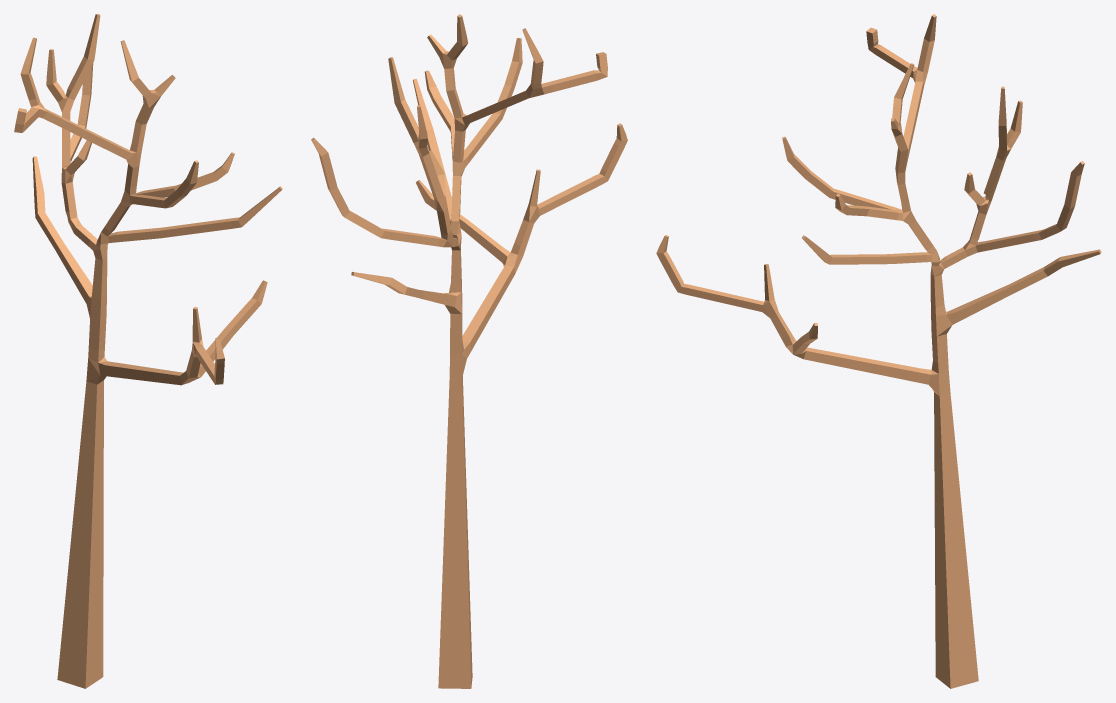
The model's file is tree_2.glb.
The picture shows the model from 3 angles, left to right: view 1: azimuth 30°, elevation 25°; view 2: azimuth 150°, elevation 25°; view 3: azimuth 270°, elevation 25°; orthographic projection. The views are drawn at different scales.
Parts seen in each view (by area): view 1: twig_tree_2.001; view 2: twig_tree_2.001; view 3: twig_tree_2.001.
Boxes of the visible parts, left/top/right/bottom form: twig_tree_2.001: left=14, top=14, right=282, bottom=688; twig_tree_2.001: left=311, top=14, right=627, bottom=688; twig_tree_2.001: left=656, top=14, right=1101, bottom=688.
Bounding box in the file's own units: 0.7118 × 1.94 × 1.23.
Materials: 1 (1 with a texture image).
